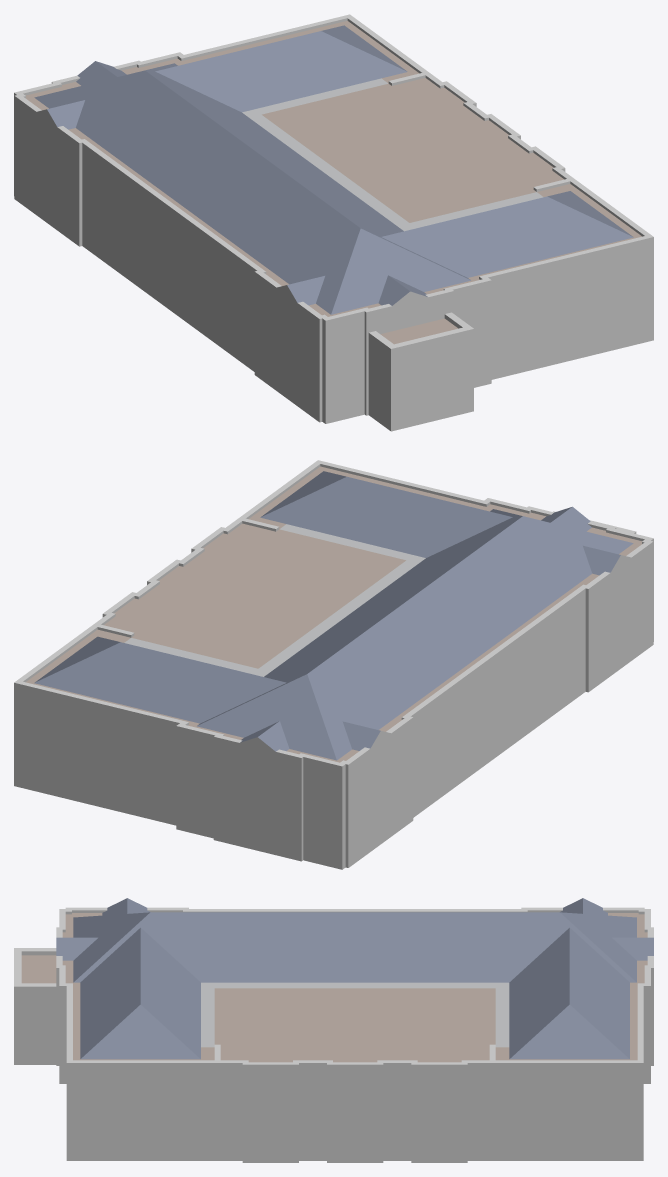
3 renders of one model, top to bottom at view 1: azimuth 30°, elevation 25°; view 2: azimuth 150°, elevation 25°; view 3: azimuth 270°, elevation 25°, orthographic. The views are drawn at different scales.
Parts seen in each view (by area): view 1: ID18, SketchUp, ID26, ID40, ID34, ID48, ID60, ID72; view 2: ID18, SketchUp, ID26, ID40, ID48, ID34, ID60; view 3: ID18, SketchUp, ID26, ID40, ID48, ID34, ID72.
Part boxes in pixels (box(x1,y1,x2,y2)): ID18: box(14, 14, 653, 431); SketchUp: box(34, 25, 633, 314); ID26: box(262, 78, 563, 222); ID40: box(242, 78, 543, 231); ID34: box(122, 21, 419, 83); ID48: box(424, 184, 641, 294); ID60: box(69, 128, 288, 285); ID72: box(380, 318, 457, 344); ID18: box(14, 460, 653, 869); SketchUp: box(34, 471, 633, 760); ID26: box(104, 523, 405, 668); ID40: box(124, 524, 425, 676); ID48: box(248, 466, 545, 528); ID34: box(26, 629, 243, 739); ID60: box(379, 573, 599, 731); ID18: box(14, 907, 653, 1162); SketchUp: box(56, 898, 653, 1059); ID26: box(214, 988, 495, 1062); ID40: box(201, 982, 509, 1047); ID48: box(62, 960, 214, 1060); ID34: box(495, 960, 647, 1060); ID72: box(21, 955, 56, 983).
Size of the model in its own units: 817 by 323 by 1407.
